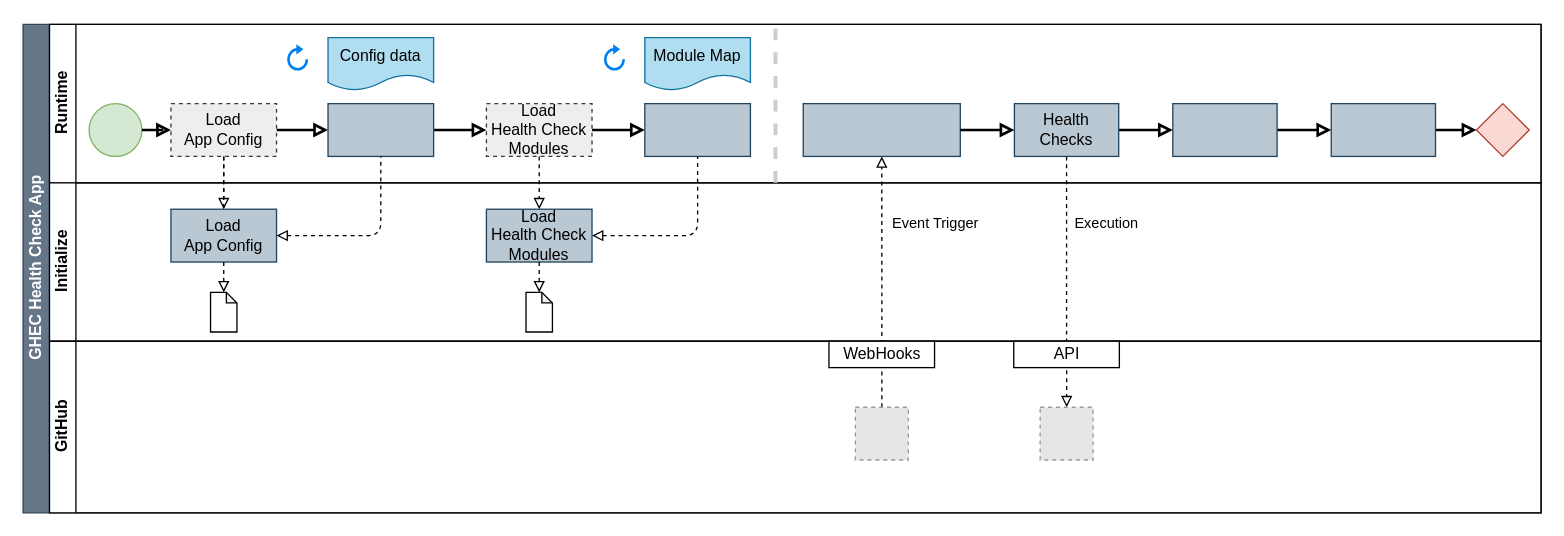
Some shapes in this 1564 by 536 pixel diagram are drawn without their labels. Grey dashed boxes stand in for pictures. The shapes that lost their labels are listed below. From the top down, each one's centre as x and y in pixels, then its label:
At pixel 380 129: "Watch App Config".
At pixel 697 129: "Watch Health Ceck Modules".
At pixel 881 129: "Trigger Health Checks".
At pixel 1224 129: "Report".
At pixel 1383 129: "Integration".
